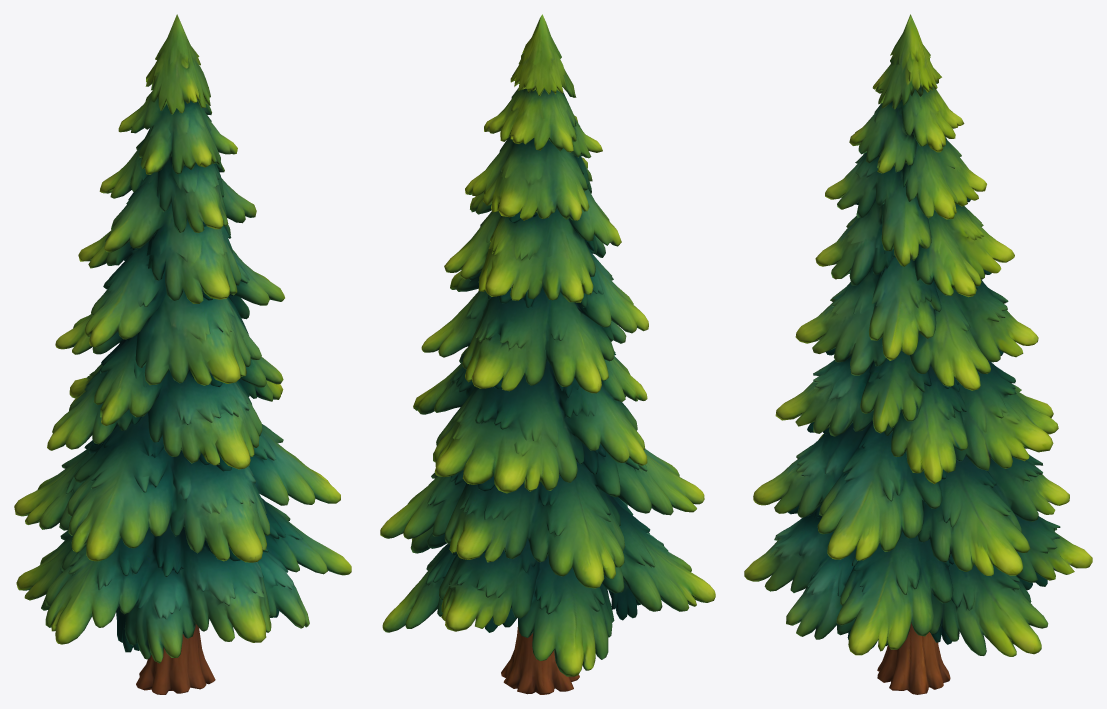
Rendered from pine.glb.
3 views of the same model, side by side, from view 1: azimuth 30°, elevation 25°; view 2: azimuth 150°, elevation 25°; view 3: azimuth 270°, elevation 25° (orthographic).
Parts seen in each view (by area): view 1: tripo_node_0880b734-0cb0-4e21-a48d-c965788f7868; view 2: tripo_node_0880b734-0cb0-4e21-a48d-c965788f7868; view 3: tripo_node_0880b734-0cb0-4e21-a48d-c965788f7868.
Part boxes in pixels (x1=…): tripo_node_0880b734-0cb0-4e21-a48d-c965788f7868: x1=14, y1=14, x2=351, y2=694; tripo_node_0880b734-0cb0-4e21-a48d-c965788f7868: x1=380, y1=14, x2=715, y2=694; tripo_node_0880b734-0cb0-4e21-a48d-c965788f7868: x1=744, y1=14, x2=1092, y2=694.
Bounding box in the file's own units: 0.4579 × 1 × 0.473.
1 material, 1 textured.
